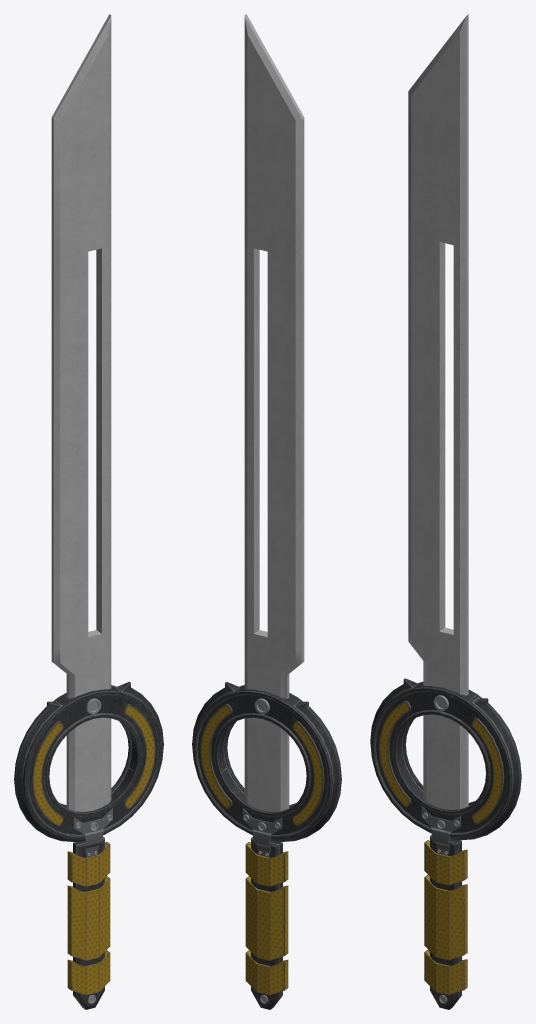
The picture shows the model from 3 angles, left to right: view 1: azimuth 30°, elevation 25°; view 2: azimuth 150°, elevation 25°; view 3: azimuth 330°, elevation 25°; orthographic projection.
Visible parts, largest first — view 1: Blade_low, Guard_low, Metal2_low, Light_low, Metal1_low, Metal3_low, Handle_low, Plane_low; view 2: Blade_low, Guard_low, Metal2_low, Light_low, Metal1_low, Metal3_low, Handle_low, Plane_low; view 3: Blade_low, Guard_low, Metal2_low, Light_low, Metal1_low, Metal3_low, Handle_low, Plane_low.
Part boxes in pixels (box(x1,y1,x2,y2)): Blade_low: box(51, 14, 111, 811); Guard_low: box(14, 681, 163, 841); Metal2_low: box(67, 876, 110, 960); Light_low: box(31, 704, 155, 826); Metal1_low: box(67, 842, 110, 886); Metal3_low: box(67, 950, 110, 995); Handle_low: box(73, 837, 104, 1009); Plane_low: box(73, 808, 112, 856); Blade_low: box(244, 14, 304, 811); Guard_low: box(192, 681, 341, 841); Metal2_low: box(245, 876, 288, 960); Light_low: box(200, 704, 324, 826); Metal1_low: box(245, 842, 288, 886); Metal3_low: box(245, 950, 288, 995); Handle_low: box(251, 837, 282, 1009); Plane_low: box(243, 808, 282, 856); Blade_low: box(408, 14, 468, 809); Guard_low: box(370, 678, 521, 840); Metal2_low: box(424, 874, 467, 960); Light_low: box(378, 700, 504, 824); Metal1_low: box(424, 840, 467, 885); Metal3_low: box(424, 949, 467, 995); Handle_low: box(430, 835, 461, 1009); Plane_low: box(421, 806, 461, 855).
Size of the model in its own units: 0.7197 by 4.57 by 0.0937.
Materials: 13 (13 with a texture image).
